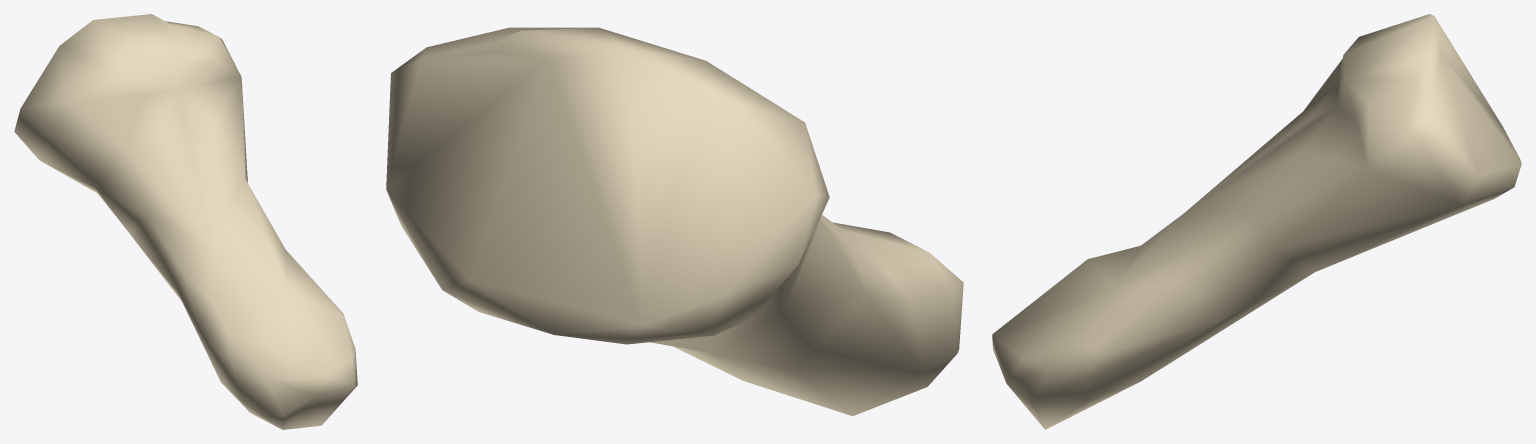
The model's file is esqueleto-distal-phalanx-of-third-finger-of-hand-l.glb.
3 renders of one model, left to right at view 1: azimuth 30°, elevation 25°; view 2: azimuth 150°, elevation 25°; view 3: azimuth 270°, elevation 25°, orthographic. The views are drawn at different scales.
Parts seen in each view (by area): view 1: Distal phalanx of third finger of hand.l; view 2: Distal phalanx of third finger of hand.l; view 3: Distal phalanx of third finger of hand.l.
Part boxes in pixels (x1,y1,x2,y2): Distal phalanx of third finger of hand.l: (14,14,357,429); Distal phalanx of third finger of hand.l: (386,27,963,416); Distal phalanx of third finger of hand.l: (992,14,1521,429).
Size of the model in its own units: 0.00986 by 0.0139 by 0.0179.
